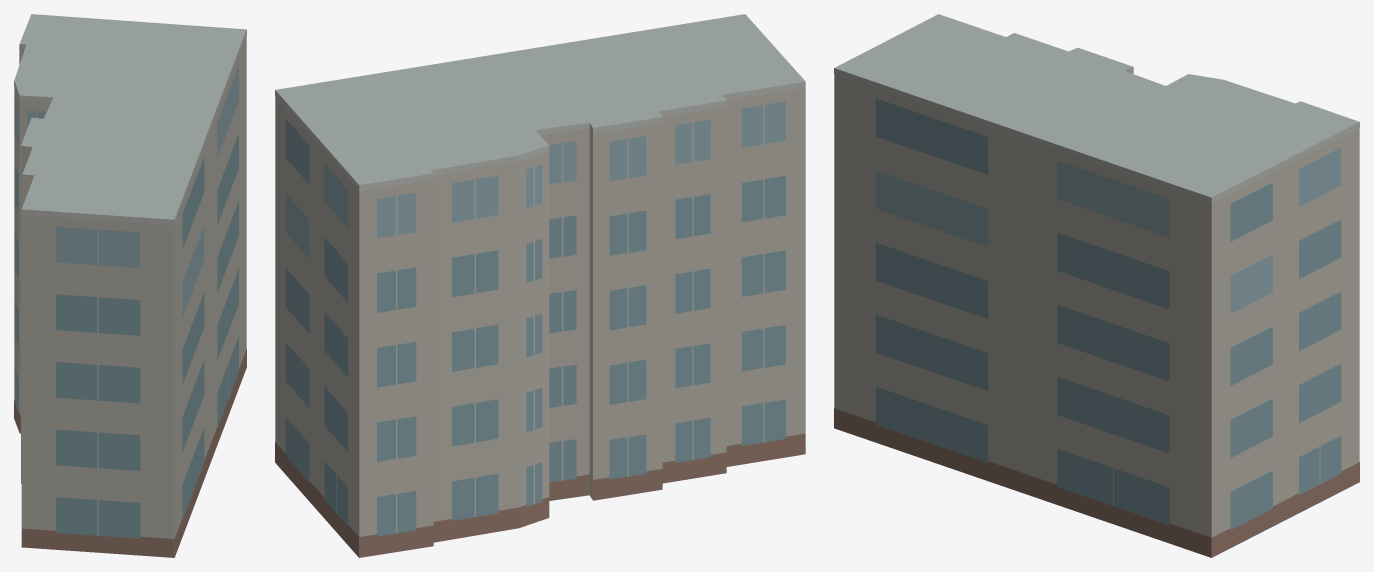
File: survey-upis-32695737.glb
3 renders of one model, left to right at view 1: azimuth 30°, elevation 25°; view 2: azimuth 150°, elevation 25°; view 3: azimuth 270°, elevation 25°, orthographic. The views are drawn at different scales.
Parts seen in each view (by area): view 1: survey-upis-32695737.tmp; view 2: survey-upis-32695737.tmp; view 3: survey-upis-32695737.tmp.
Boxes of the visible parts, left/top/right/bottom form: survey-upis-32695737.tmp: left=14, top=14, right=246, bottom=557; survey-upis-32695737.tmp: left=275, top=14, right=805, bottom=557; survey-upis-32695737.tmp: left=834, top=14, right=1359, bottom=557.
Size of the model in its own units: 16.62 by 15.2 by 20.11.
